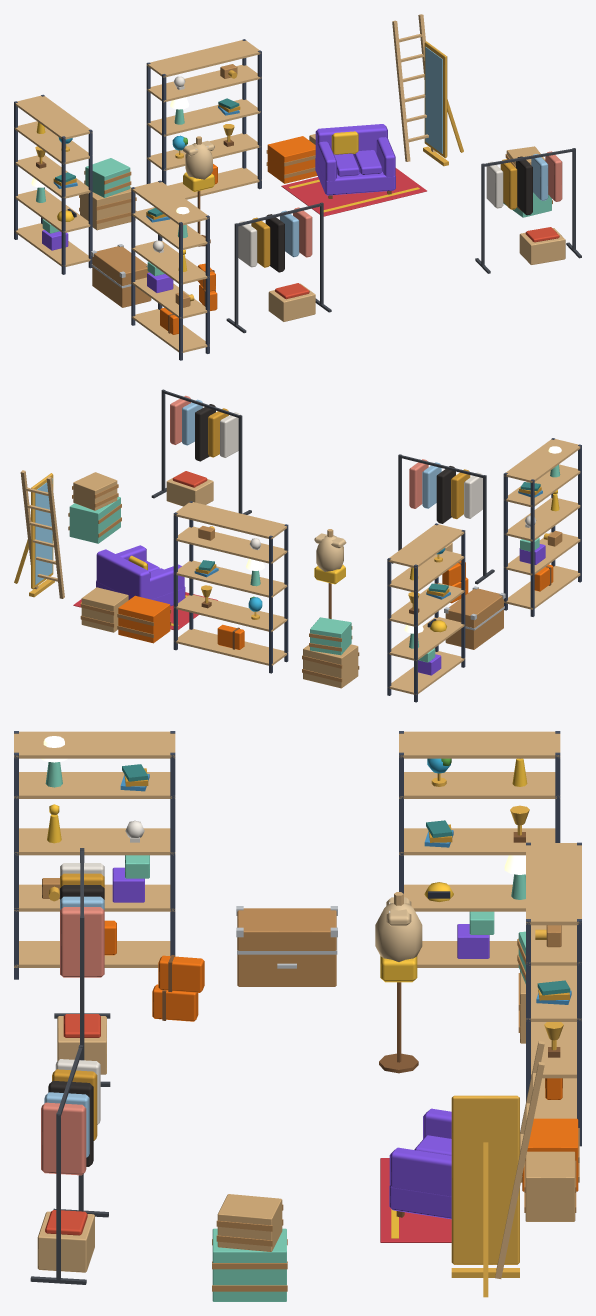
The model's file is einrichtung_requisite.glb.
3 views of the same model, one above another, from view 1: azimuth 30°, elevation 25°; view 2: azimuth 150°, elevation 25°; view 3: azimuth 270°, elevation 25° (orthographic). The views are drawn at different scales.
Visible parts, largest first — view 1: einrichtung_requisite; view 2: einrichtung_requisite; view 3: einrichtung_requisite.
Boxes of the visible parts, left/top/right/bottom form: einrichtung_requisite: left=14, top=14, right=581, bottom=360; einrichtung_requisite: left=14, top=389, right=581, bottom=702; einrichtung_requisite: left=14, top=731, right=581, bottom=1301.
Size of the model in its own units: 6.63 by 2.03 by 4.58.
